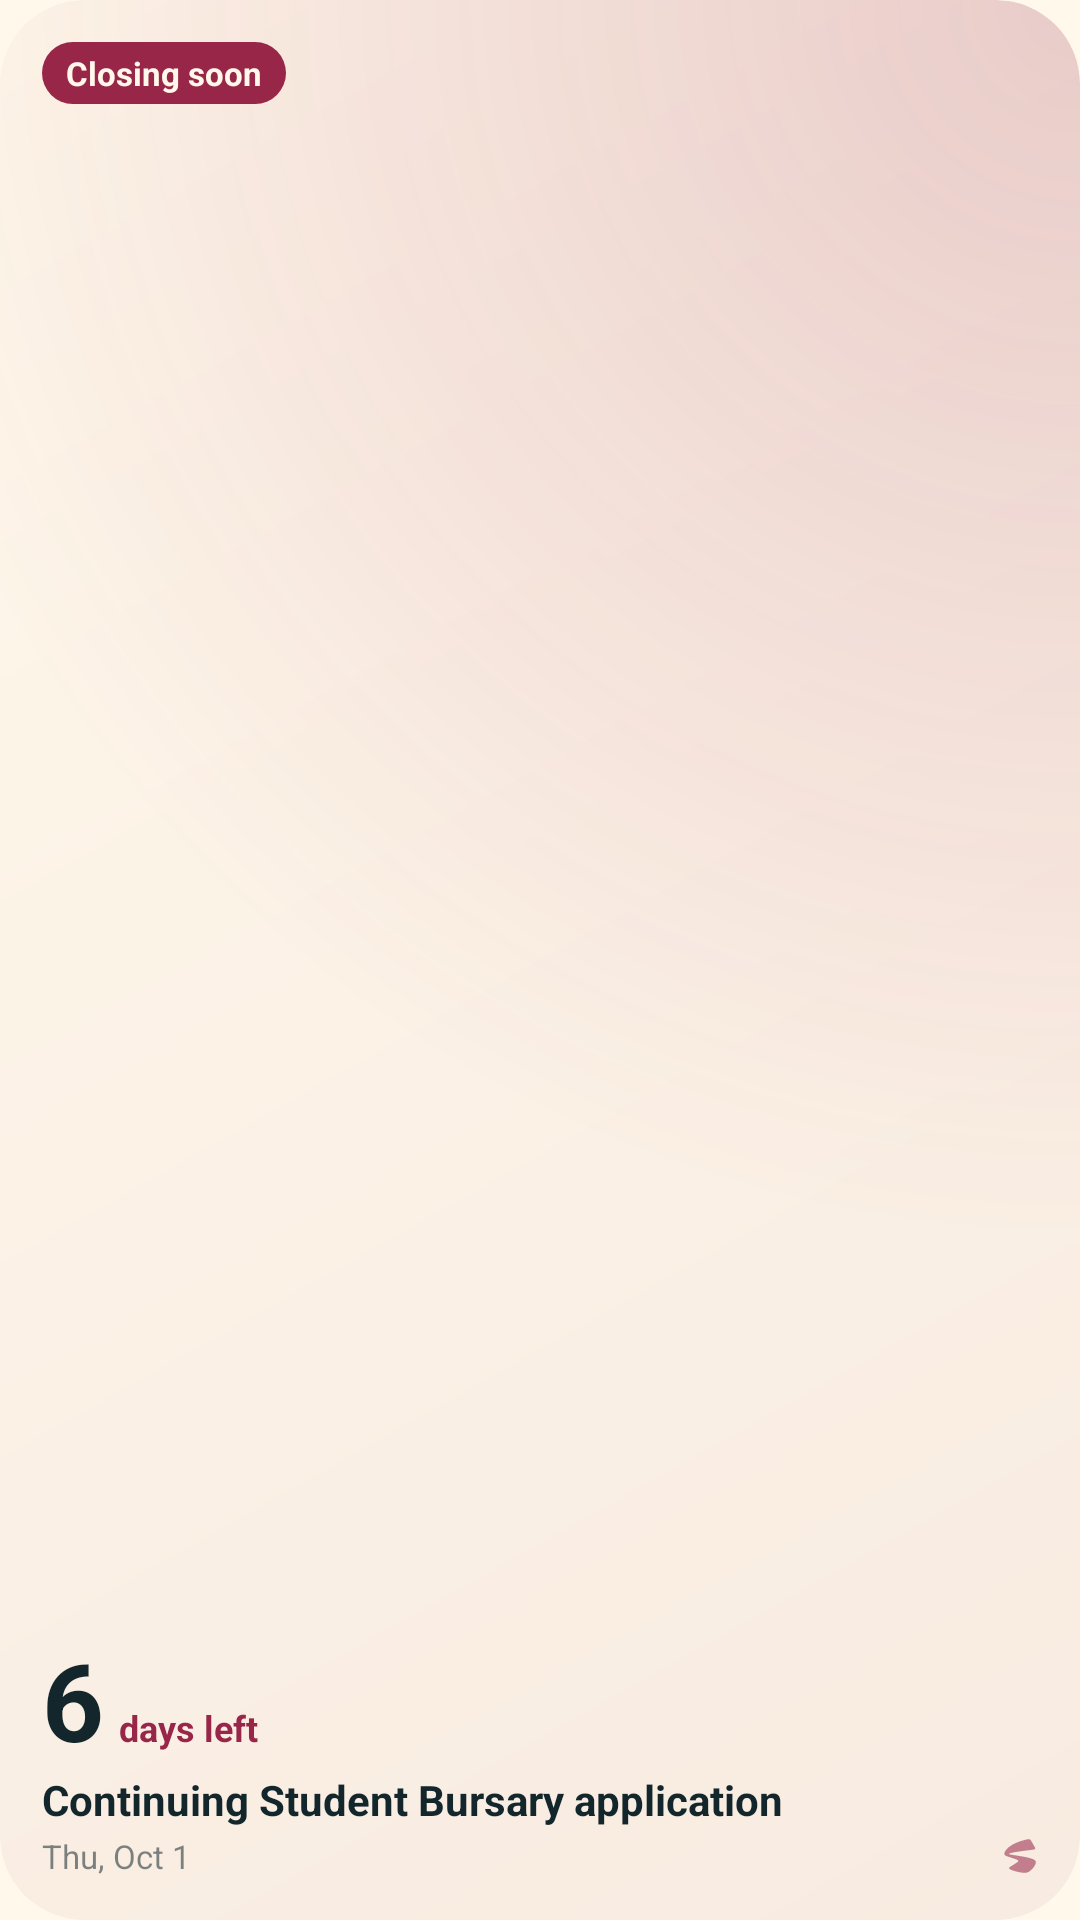

Icon click points for this 1080×1920 phone screenshot, format [x,y]:
widget mark: [1020,1856]
